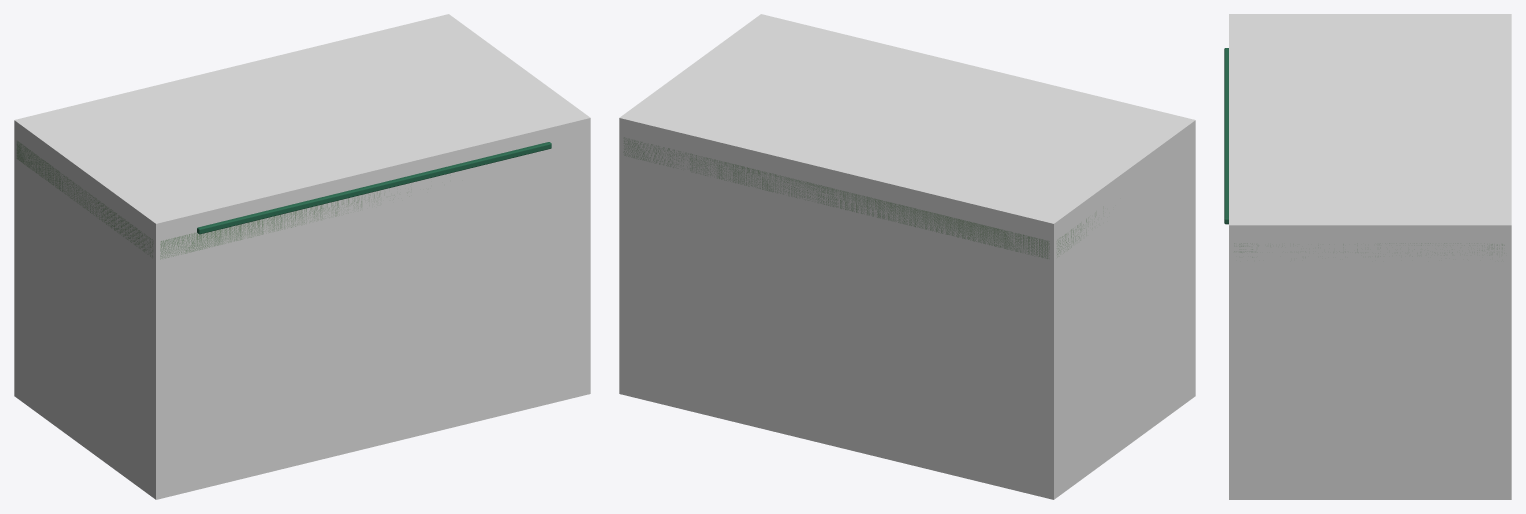
File: display-table_retail.glb
3 renders of one model, left to right at view 1: azimuth 30°, elevation 25°; view 2: azimuth 150°, elevation 25°; view 3: azimuth 270°, elevation 25°, orthographic.
Parts seen in each view (by area): view 1: COL_display-table, MESH_DisplayTop, MESH_TierTrim_01; view 2: COL_display-table, MESH_DisplayTop; view 3: COL_display-table, MESH_TierTrim_01.
Part boxes in pixels (box(x1,y1,x2,y2)): COL_display-table: box(14, 14, 590, 499); MESH_DisplayTop: box(16, 140, 450, 259); MESH_TierTrim_01: box(197, 142, 551, 234); COL_display-table: box(619, 14, 1195, 499); MESH_DisplayTop: box(623, 137, 1103, 258); COL_display-table: box(1229, 14, 1511, 499); MESH_TierTrim_01: box(1224, 48, 1228, 224).
Bounding box in the file's own units: 1.45 × 0.88 × 0.833.
